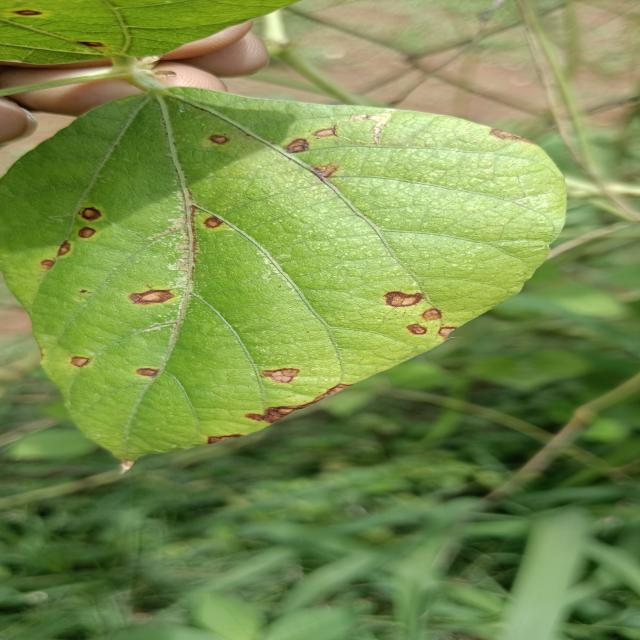Dolicos bean_cercospora leaf spot: (8, 85, 570, 473)
